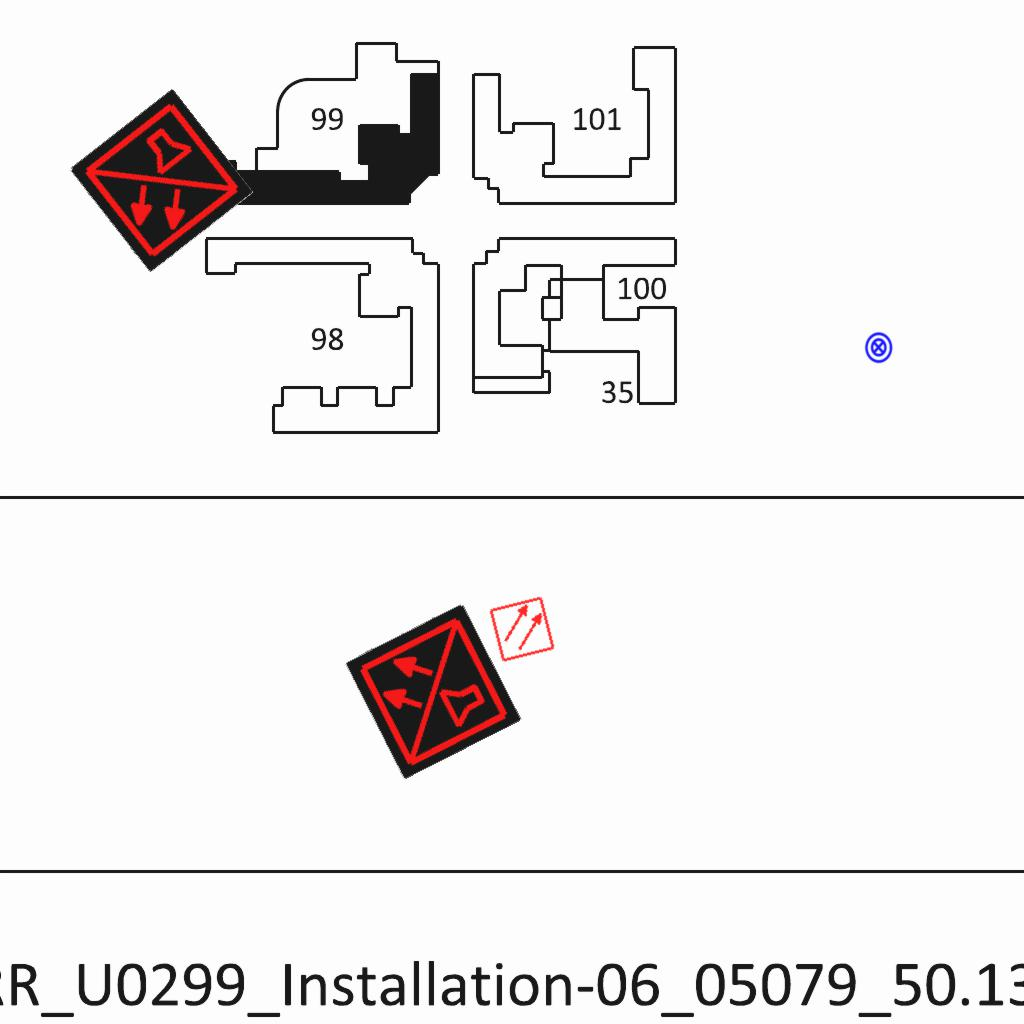OKW_Multisensormelder_(Kombination_optischer_Rauch-Kahlenmonoxid_Waerme-Melder): (68, 88, 254, 274), (344, 602, 522, 780)
RMO_Rauchmelder_optischer: (488, 595, 556, 663)
Taster_beleuchtet: (862, 331, 895, 364)
